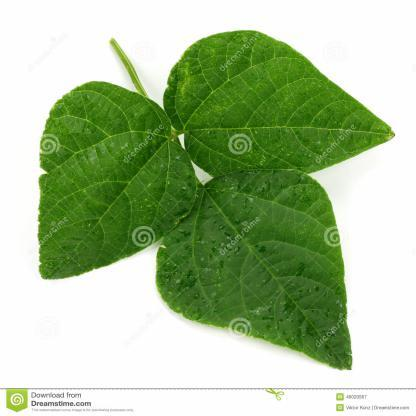Soyabean leaf: (151, 168, 355, 372), (164, 26, 397, 180), (36, 80, 197, 280)
